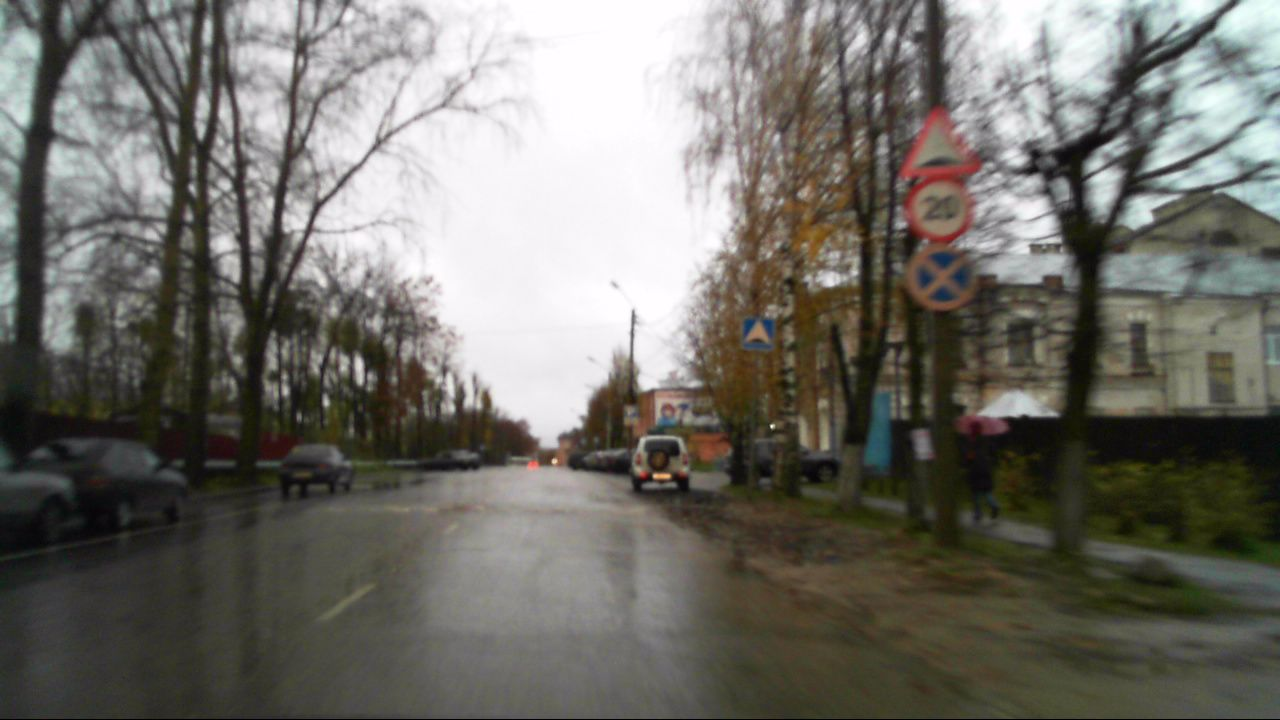No Parking: (907, 242, 977, 312)
